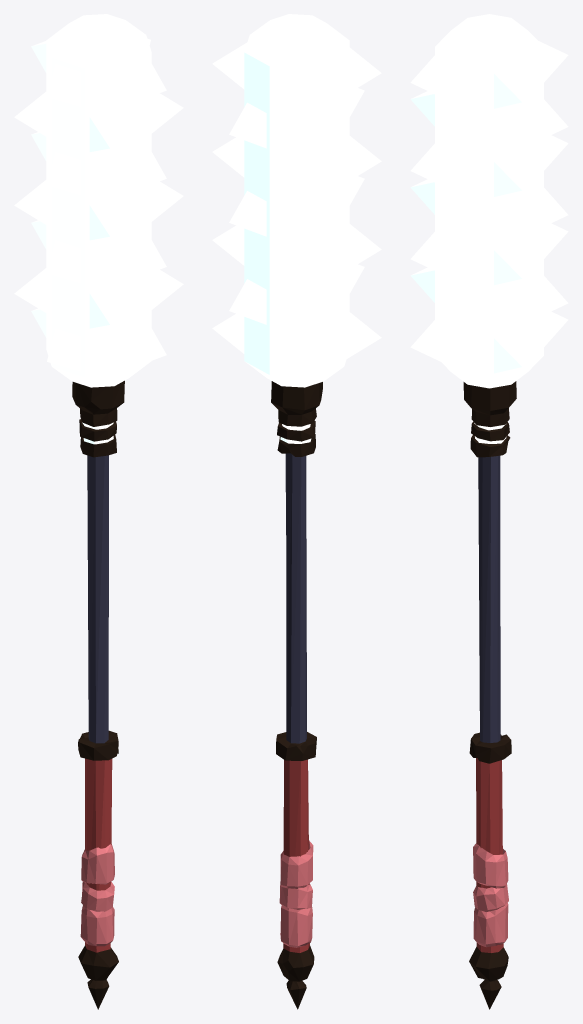
The model's file is SFFA_Weapon_Mace_Runical_007.fbx.
The picture shows the model from 3 angles, left to right: view 1: azimuth 30°, elevation 25°; view 2: azimuth 150°, elevation 25°; view 3: azimuth 270°, elevation 25°; orthographic projection.
Parts seen in each view (by area): view 1: SFFA_Weapon_Mace_Runical_007; view 2: SFFA_Weapon_Mace_Runical_007; view 3: SFFA_Weapon_Mace_Runical_007.
Boxes of the visible parts, x1=… form: SFFA_Weapon_Mace_Runical_007: x1=14, y1=14, x2=183, y2=1009; SFFA_Weapon_Mace_Runical_007: x1=212, y1=14, x2=381, y2=1009; SFFA_Weapon_Mace_Runical_007: x1=410, y1=14, x2=568, y2=1009.
Bounding box in the file's own units: 15.67 × 107 × 15.67.
